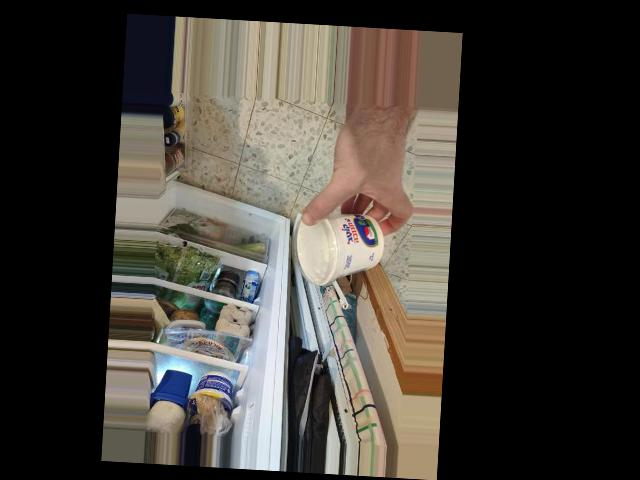cotage: (295, 203, 386, 284)
